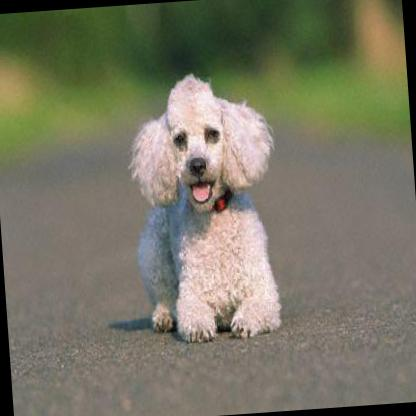toy_poodle: (123, 66, 285, 346)
